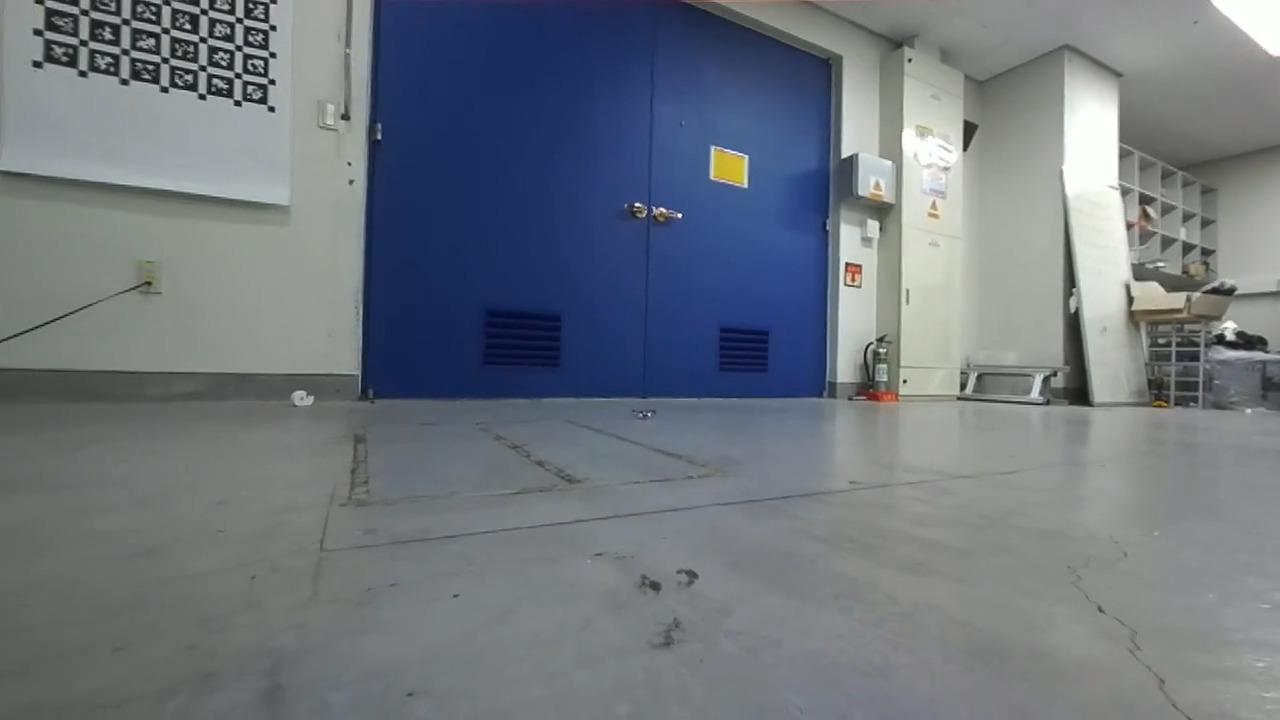crazyflie: (619, 401, 671, 428)
